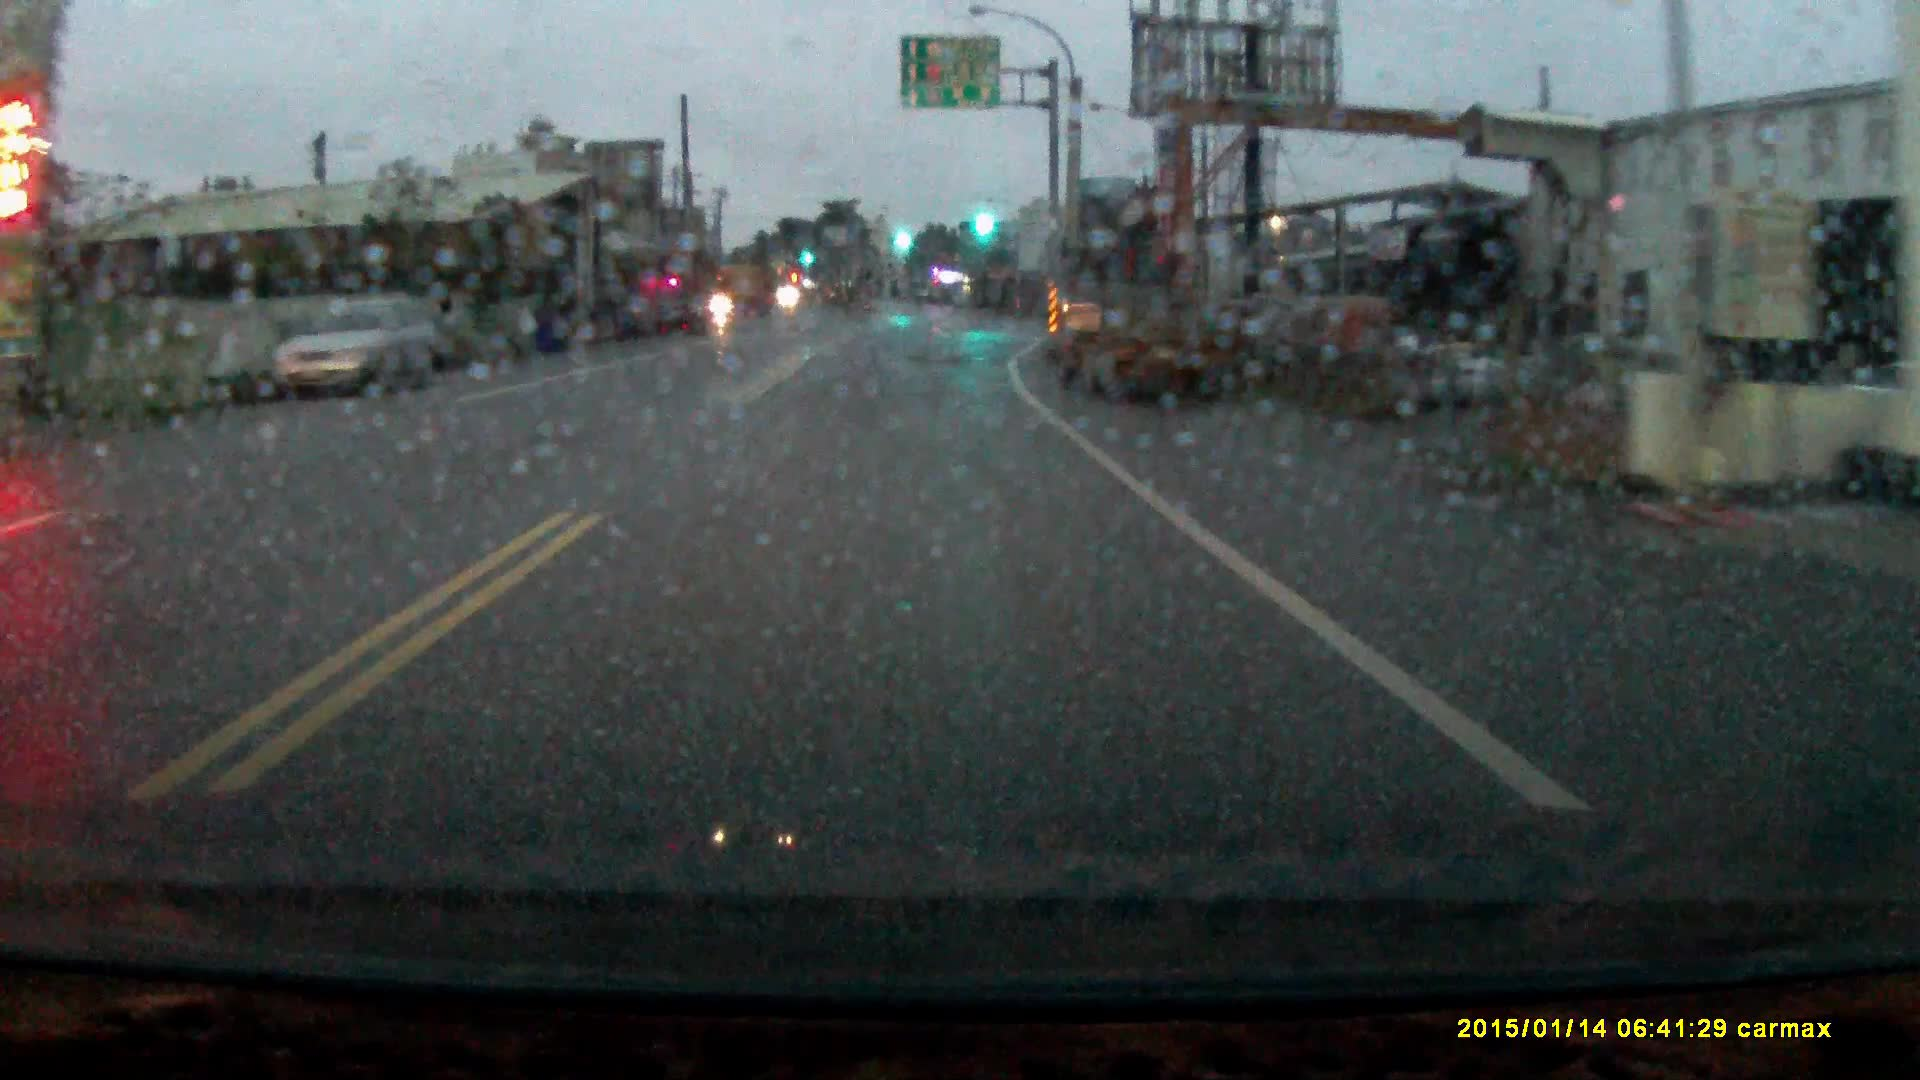vehicle: (1044, 244, 1203, 406), (266, 297, 439, 398), (709, 264, 777, 318)
